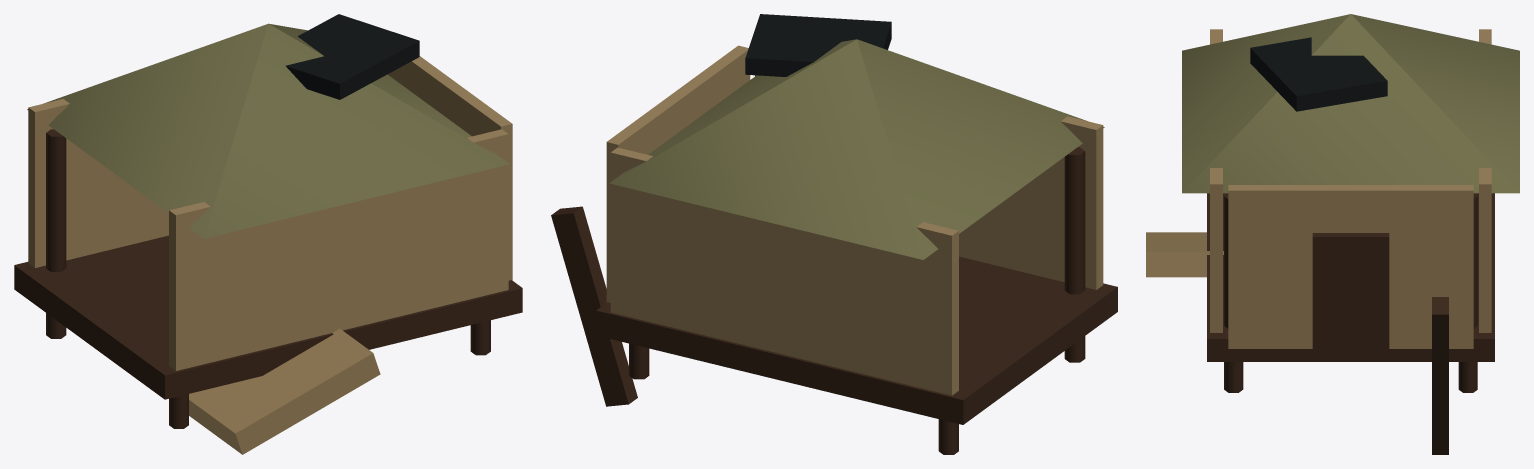
File: village-hut-damaged.glb
3 renders of one model, left to right at view 1: azimuth 30°, elevation 25°; view 2: azimuth 150°, elevation 25°; view 3: azimuth 270°, elevation 25°, orthographic. The views are drawn at different scales.
Parts seen in each view (by area): view 1: thatchRoof, wallLeft, raisedFloor, collapsedWall, wallRight, brokenRoofHole, frontWall, postRR, postFL, postRL; view 2: thatchRoof, wallRight, raisedFloor, wallLeft, ladder, frontWall, brokenRoofHole, postRL, postFR, postRR; view 3: thatchRoof, frontWall, door, brokenRoofHole, raisedFloor, collapsedWall, ladder, wallLeft, wallRight, postFL, postFR.
Boxes of the visible parts, x1=… form: thatchRoof: x1=27, y1=23, x2=509, y2=238; wallLeft: x1=169, y1=129, x2=508, y2=370; raisedFloor: x1=14, y1=235, x2=522, y2=399; collapsedWall: x1=189, y1=328, x2=380, y2=454; wallRight: x1=28, y1=99, x2=168, y2=267; brokenRoofHole: x1=285, y1=14, x2=419, y2=99; frontWall: x1=388, y1=56, x2=512, y2=280; postRR: x1=46, y1=129, x2=66, y2=338; postFL: x1=470, y1=320, x2=490, y2=355; postRL: x1=169, y1=394, x2=188, y2=428; thatchRoof: x1=609, y1=39, x2=1104, y2=259; wallRight: x1=610, y1=147, x2=958, y2=395; raisedFloor: x1=596, y1=256, x2=1117, y2=424; wallLeft: x1=959, y1=116, x2=1103, y2=289; ladder: x1=551, y1=206, x2=637, y2=406; frontWall: x1=606, y1=45, x2=750, y2=302; brokenRoofHole: x1=745, y1=14, x2=891, y2=76; postRL: x1=1064, y1=147, x2=1085, y2=362; postFR: x1=629, y1=343, x2=649, y2=379; postRR: x1=938, y1=419, x2=958, y2=454; thatchRoof: x1=1182, y1=14, x2=1519, y2=193; frontWall: x1=1228, y1=185, x2=1473, y2=348; door: x1=1312, y1=233, x2=1389, y2=356; brokenRoofHole: x1=1250, y1=37, x2=1387, y2=111; raisedFloor: x1=1207, y1=193, x2=1494, y2=361; collapsedWall: x1=1146, y1=232, x2=1223, y2=277; ladder: x1=1432, y1=297, x2=1448, y2=454; wallLeft: x1=1210, y1=29, x2=1222, y2=332; wallRight: x1=1479, y1=29, x2=1491, y2=332; postFL: x1=1224, y1=193, x2=1243, y2=392; postFR: x1=1458, y1=193, x2=1477, y2=392.
Bounding box in the file's own units: 2.2 × 1.82 × 1.75.
